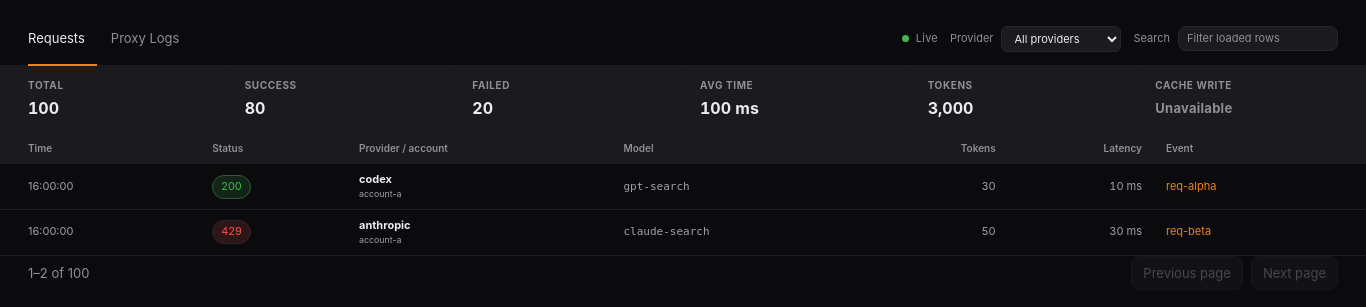
Test: Logs loaded-page search › filters loaded rows by REQ-ALPHA without fetching
The image size is (1366, 307).
Step 1. Type "REQ-ALPHA" into the search field named "Search loaded requests" → (1258, 38), box top-left (1178, 26), bottom-right (1338, 51)
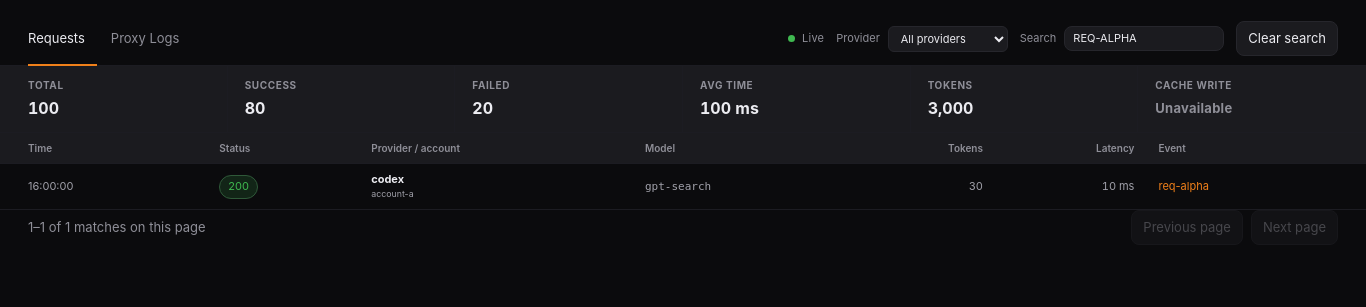
Check: the text "1–1 of 1 matches on this page" is shown, box top-left (28, 218), bottom-right (206, 237)
